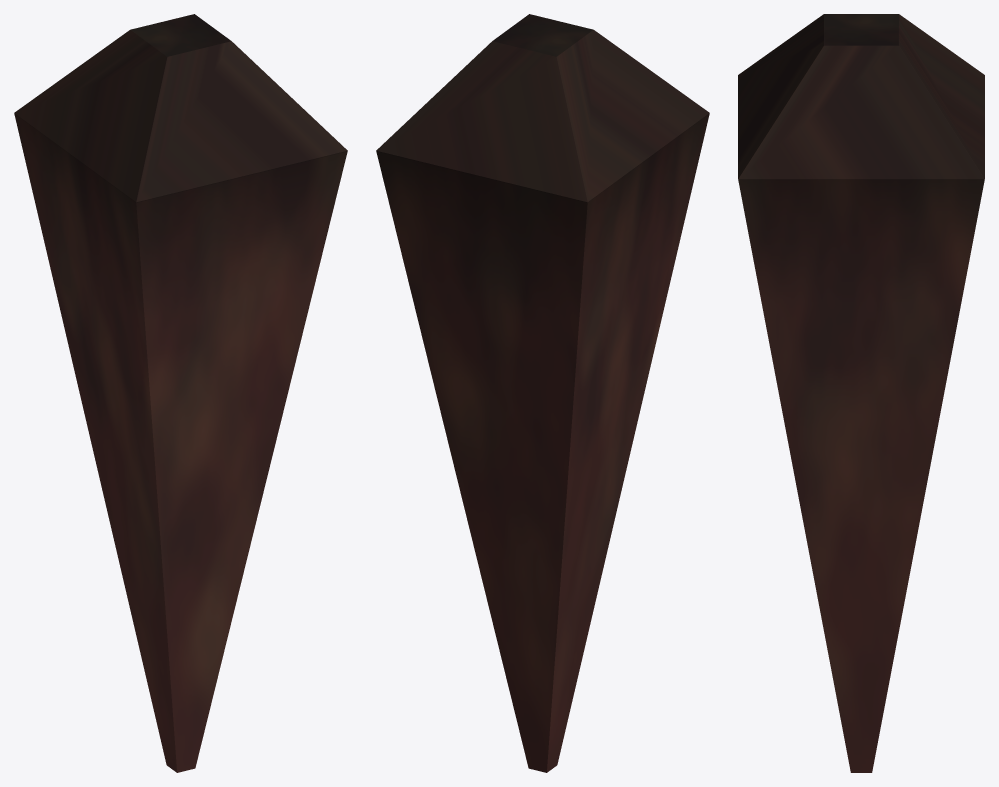
Rendered from GIMM370Torch.fbx.
The picture shows the model from 3 angles, left to right: view 1: azimuth 30°, elevation 25°; view 2: azimuth 150°, elevation 25°; view 3: azimuth 270°, elevation 25°; orthographic projection.
Visible parts, largest first — view 1: Cube; view 2: Cube; view 3: Cube.
Part boxes in pixels (x1,y1,x2,y2): Cube: (14,14,347,772); Cube: (376,14,709,772); Cube: (738,14,984,772).
Bounding box in the file's own units: 200 × 661 × 200.
1 material, 1 textured.
